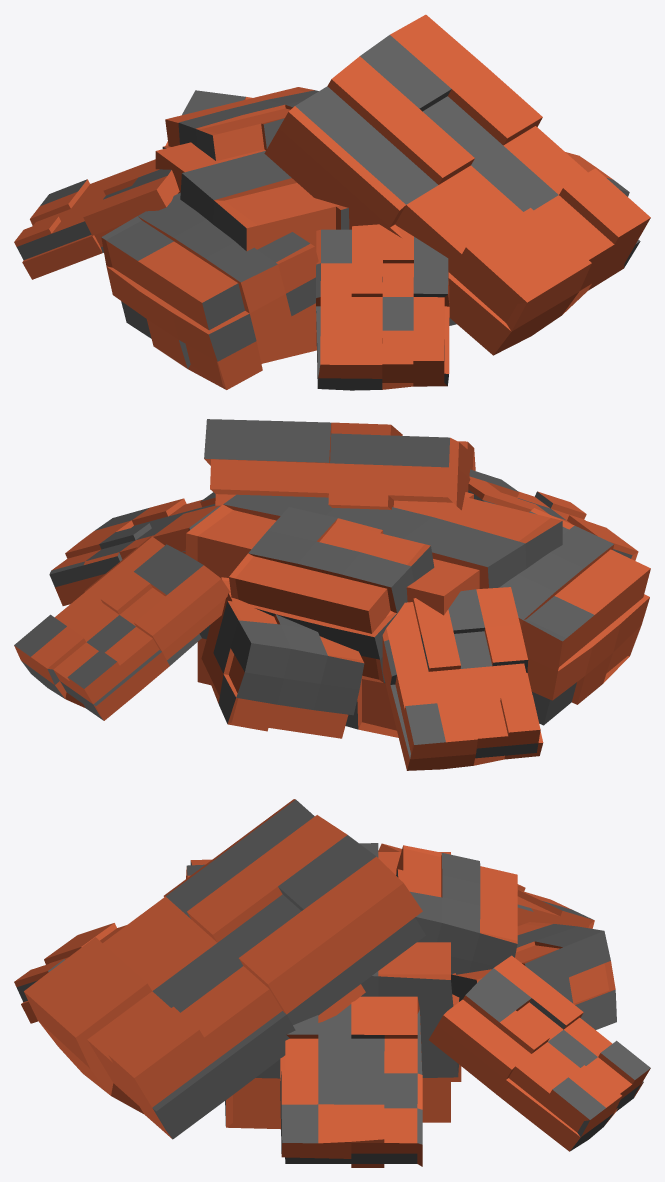
Rendered from scrap.fbx.
3 views of the same model, one above another, from view 1: azimuth 30°, elevation 25°; view 2: azimuth 150°, elevation 25°; view 3: azimuth 270°, elevation 25° (orthographic). The views are drawn at different scales.
Parts seen in each view (by area): view 1: Cube.001, Cube.003, Cube.004, Cube, Cube.005, Cube.002, Cube.008; view 2: Cube.005, Cube, Cube.006, Cube.001, Cube.002, Cube.003, Cube.008, Cube.007, Cube.004; view 3: Cube.001, Cube.006, Cube.007, Cube.002, Cube, Cube.008, Cube.005, Cube.004.
Part boxes in pixels (x1,y1,x2,y2): Cube.001: (264,14,650,355); Cube.003: (101,192,318,389); Cube.004: (316,224,449,390); Cube: (155,142,456,363); Cube.005: (14,159,179,279); Cube.002: (162,87,318,160); Cube.008: (165,90,251,145); Cube.005: (382,587,543,770); Cube: (185,492,562,737); Cube.006: (14,536,230,720); Cube.001: (204,419,475,510); Cube.002: (229,507,434,682); Cube.003: (499,508,650,725); Cube.008: (201,577,364,738); Cube.007: (49,492,219,605); Cube.004: (468,469,638,560); Cube.001: (24,799,425,1139); Cube.006: (428,955,650,1151); Cube.007: (280,996,422,1167); Cube.002: (396,845,517,974); Cube: (225,843,461,1129); Cube.008: (451,922,616,1029); Cube.005: (378,843,594,928); Cube.004: (14,923,126,1023).
Bounding box in the file's own units: 610 × 271 × 615.
